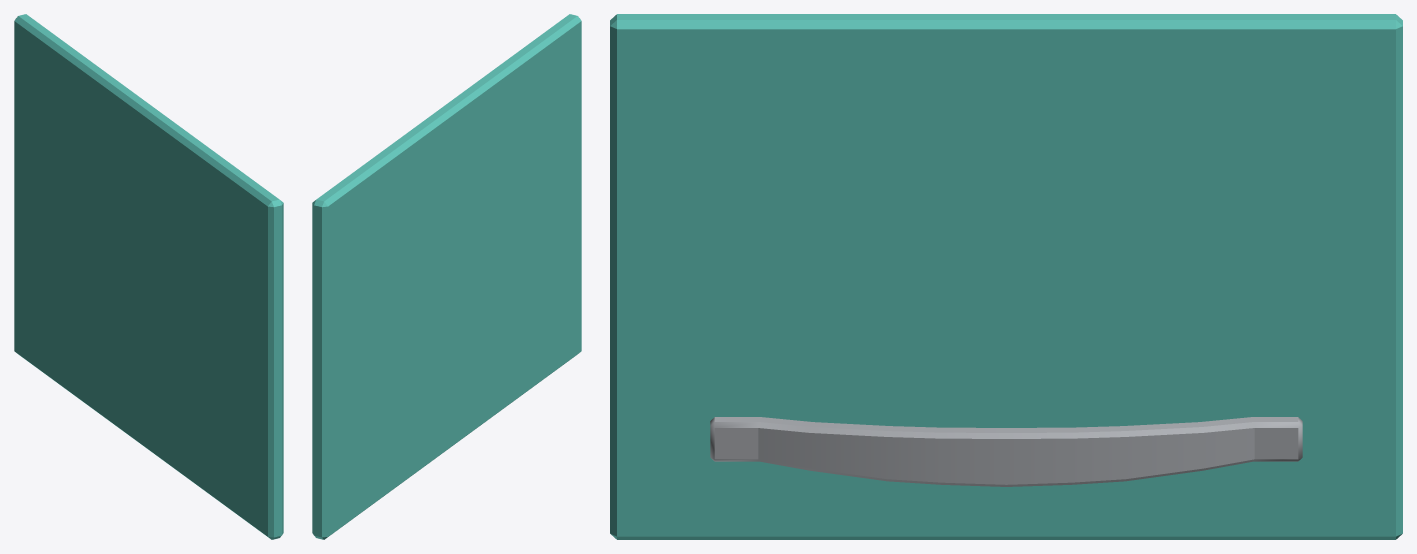
The model's file is Set_door.fbx.
3 views of the same model, side by side, from view 1: azimuth 30°, elevation 25°; view 2: azimuth 150°, elevation 25°; view 3: azimuth 270°, elevation 25° (orthographic). The views are drawn at different scales.
Parts seen in each view (by area): view 1: Set_door; view 2: Set_door; view 3: Set_door.
Part boxes in pixels (left/top/right/bottom): Set_door: left=14, top=14, right=283, bottom=539; Set_door: left=312, top=14, right=581, bottom=539; Set_door: left=610, top=14, right=1402, bottom=539.
Size of the model in its own units: 0.0655 by 0.4108 by 0.5675.
